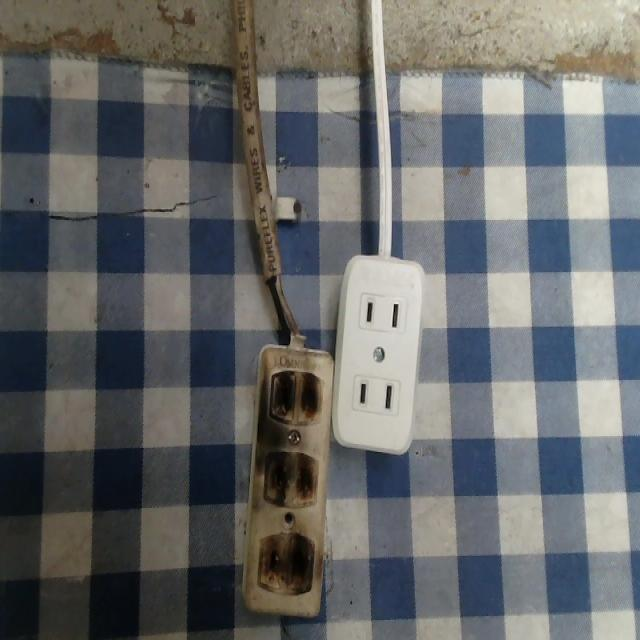-: (256, 444, 322, 512), (253, 528, 316, 595), (265, 368, 325, 427)
